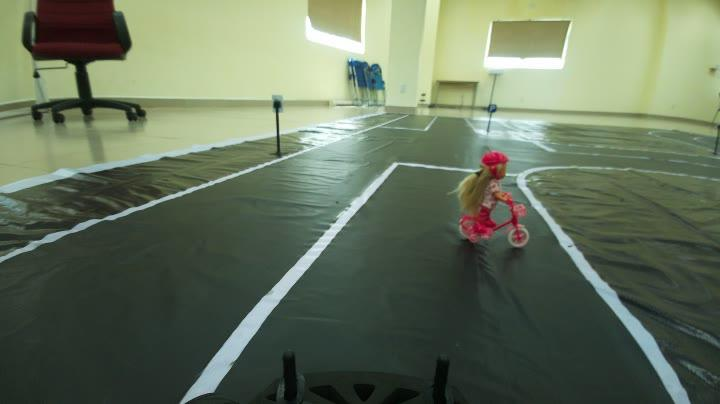pedestrian: (454, 148, 537, 250)
